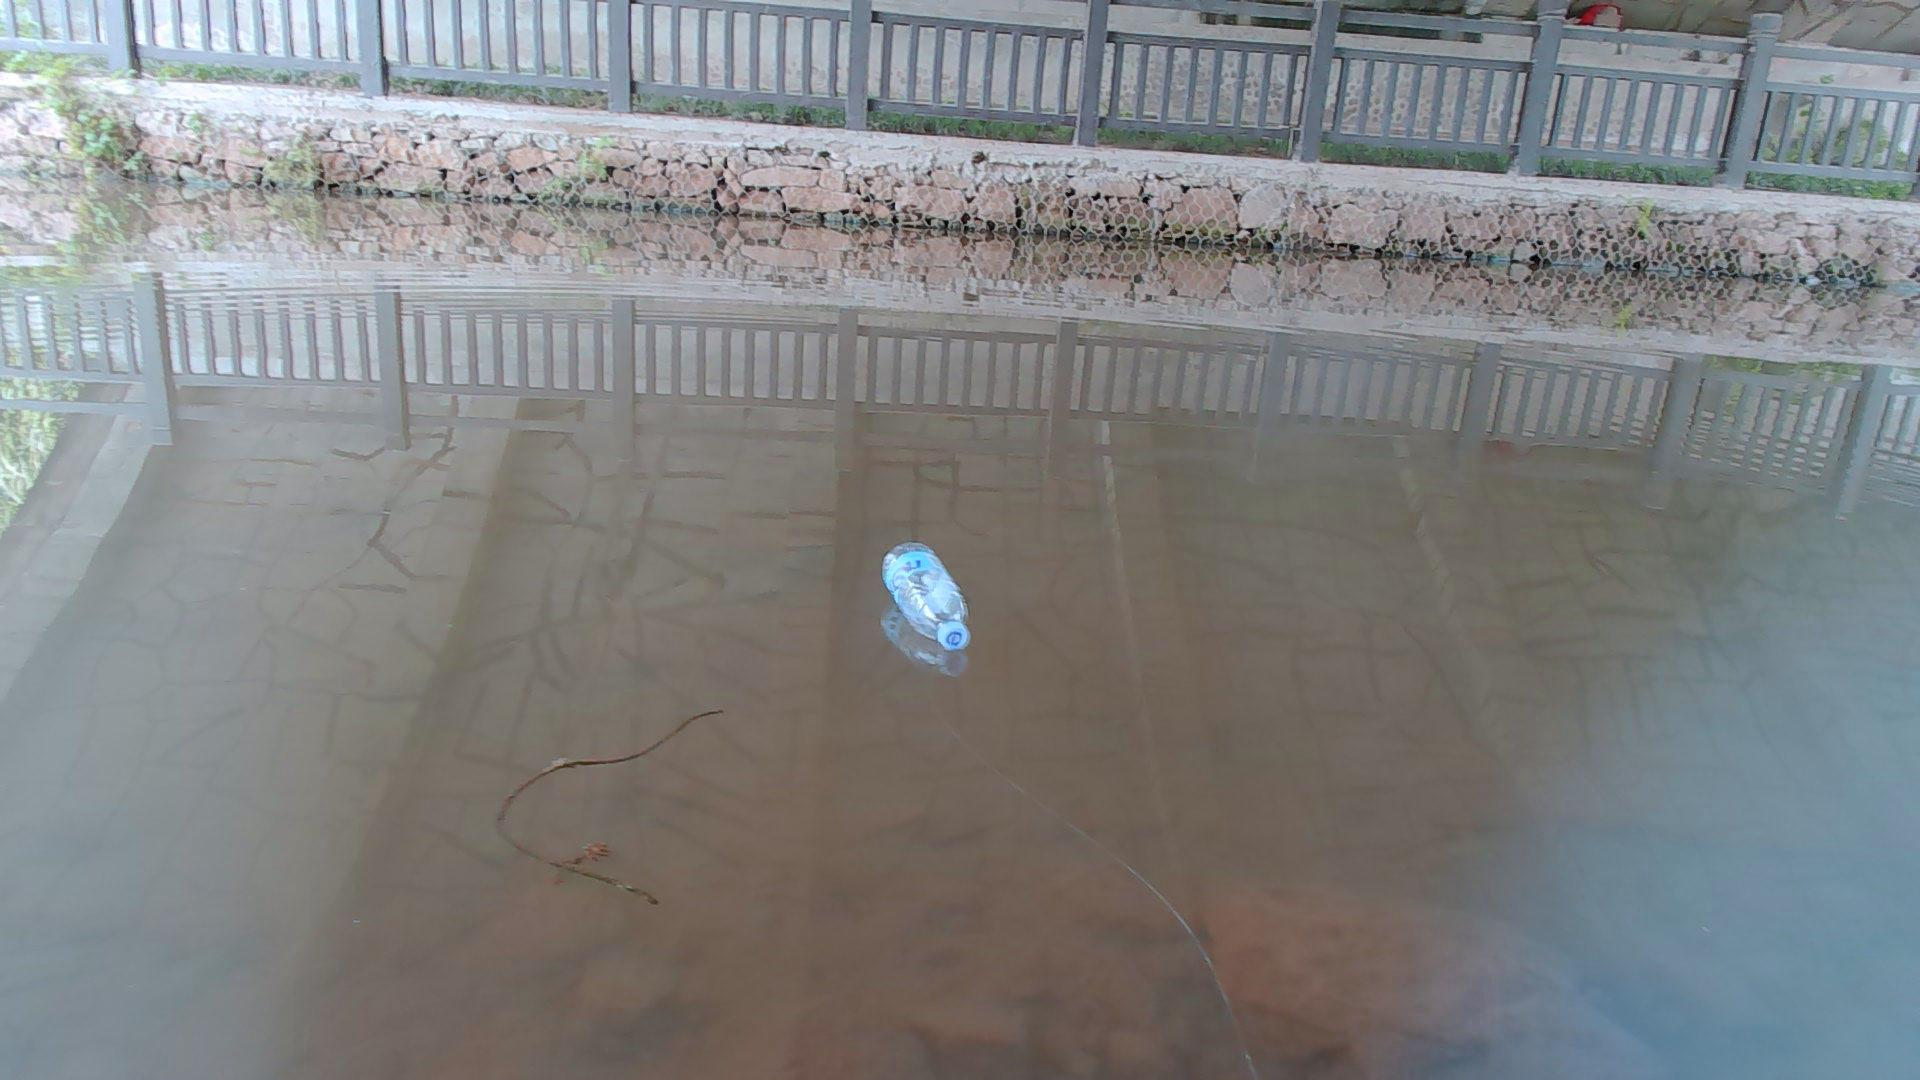Plastic: (878, 533, 973, 657)
